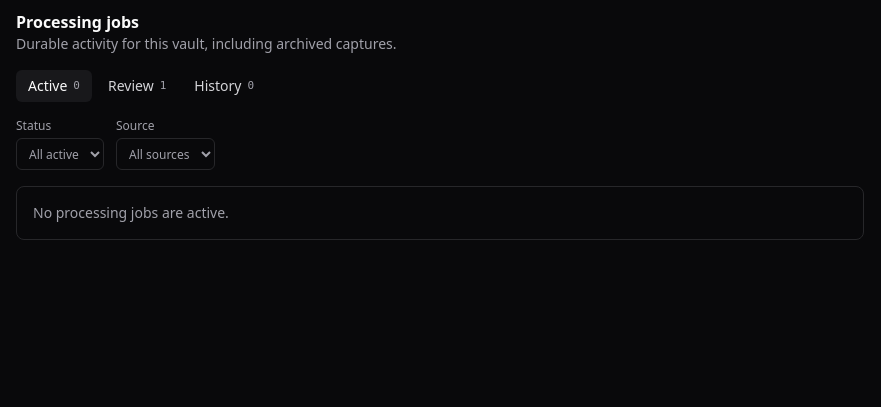
JobHistory › shows a concrete recovery action for categorized failures
This screenshot has width=881, height=407.
Click the tab "Review 1" at (137, 86), box [96,70,178,102]
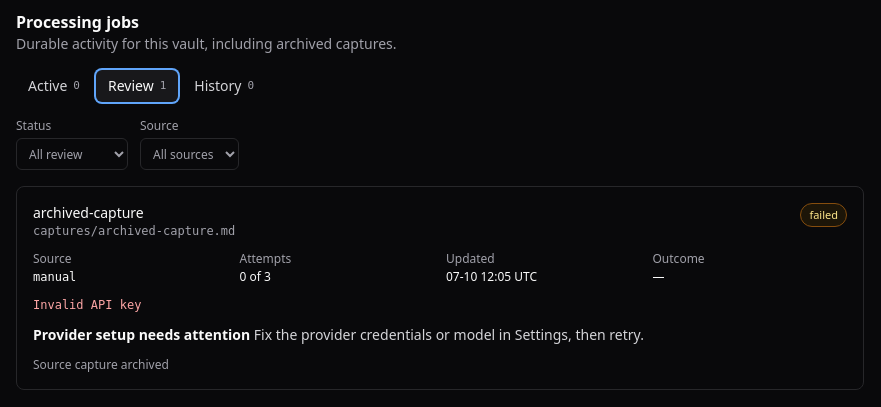
Check: the text "Provider setup needs attention" is shown, box [33,325,250,344]
Check: the text "Fix the provider credentials" is shown, box [254,325,644,344]
